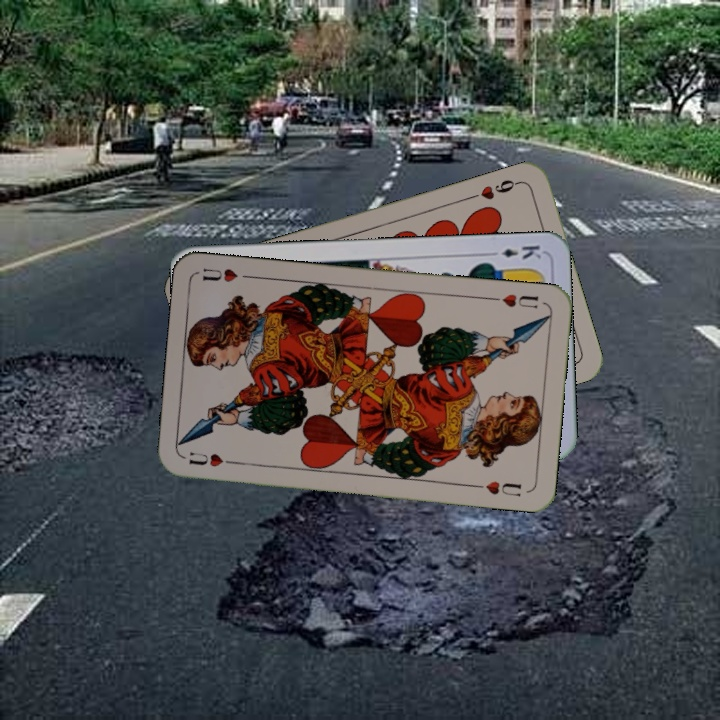EK: (485, 241, 544, 262)
H9: (465, 175, 523, 203)
HU: (185, 447, 240, 470), (487, 290, 542, 311)
